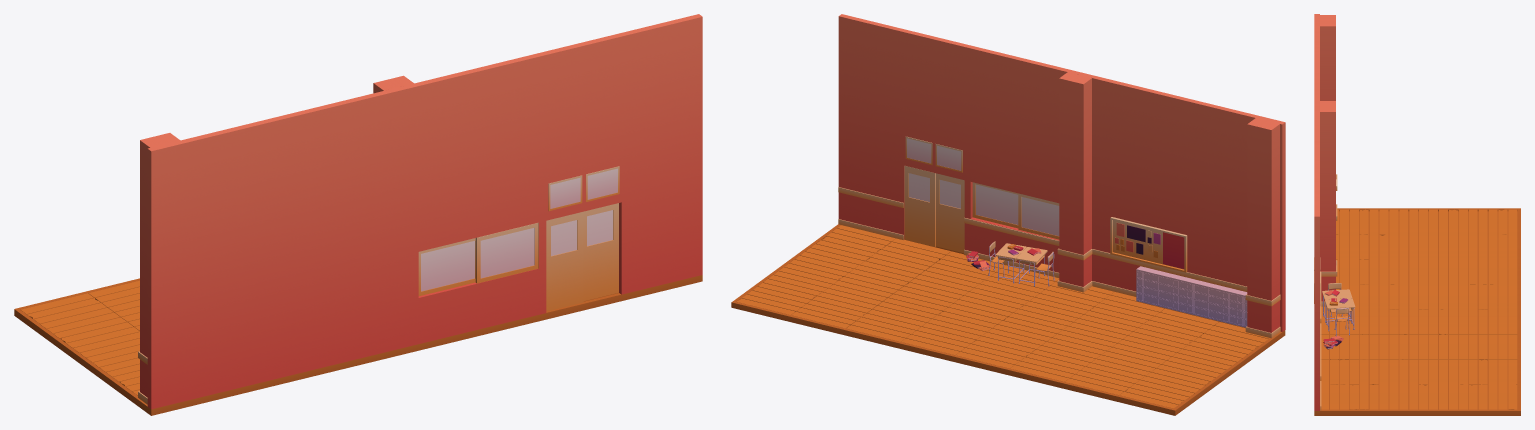
Rendered from Corredor_1.fbx.
3 views of the same model, side by side, from view 1: azimuth 30°, elevation 25°; view 2: azimuth 150°, elevation 25°; view 3: azimuth 270°, elevation 25° (orthographic). The views are drawn at different scales.
Parts seen in each view (by area): view 1: Paredes.002, Chão.003, Portas.003, Chão.002, Janela, Coluna 1.002, Paredes.005; view 2: Paredes.002, Chão.003, Coluna 1.002, Chão.002, Portas.003, Armarios.002, Plane.019, Janela, Infos.002, Papel.003, Cadeira.017, Paredes.005; view 3: Chão.003, Chão.002, Coluna 1.002, Paredes.002, Cadeira.017, Plane.019.
Boxes of the visible parts, x1,y1,x2,y2 form: Paredes.002: [147, 14, 702, 409]; Chão.003: [20, 280, 618, 395]; Portas.003: [546, 203, 618, 311]; Chão.002: [14, 275, 702, 415]; Janela: [418, 222, 538, 296]; Coluna 1.002: [140, 75, 413, 397]; Paredes.005: [548, 166, 619, 211]; Paredes.002: [838, 14, 1285, 331]; Chão.003: [737, 225, 1269, 408]; Coluna 1.002: [1059, 72, 1279, 332]; Chão.002: [731, 224, 1285, 415]; Portas.003: [904, 165, 964, 253]; Armarios.002: [1136, 266, 1247, 327]; Plane.019: [838, 187, 1280, 338]; Janela: [972, 182, 1059, 239]; Infos.002: [1110, 217, 1187, 272]; Papel.003: [1115, 223, 1184, 268]; Cadeira.017: [988, 241, 1054, 286]; Paredes.005: [905, 136, 962, 172]; Chão.003: [1320, 209, 1517, 409]; Chão.002: [1314, 208, 1520, 415]; Coluna 1.002: [1320, 15, 1335, 305]; Paredes.002: [1314, 14, 1319, 410]; Cadeira.017: [1322, 283, 1355, 336]; Plane.019: [1320, 174, 1337, 410].
Bounding box in the file's own units: 4159 × 1908 × 1793.
Materials: 1 (1 with a texture image).
